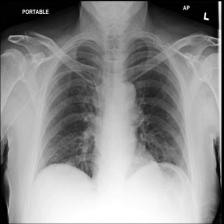normal: (29, 28, 195, 191)
